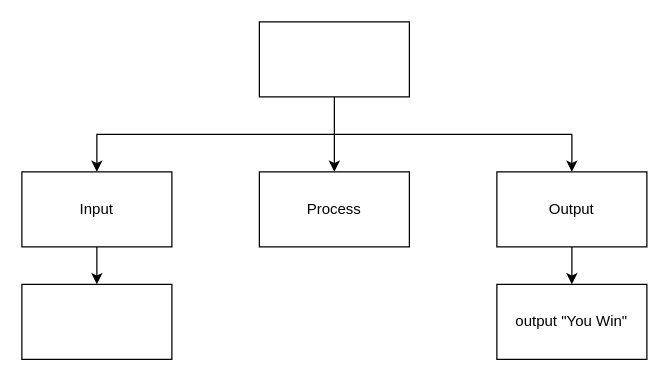
This 669x381 diagram has some shape labels left out. Each missing label, with the box of its shape:
game: (258, 21, 409, 97)
get string: (21, 283, 172, 359)
